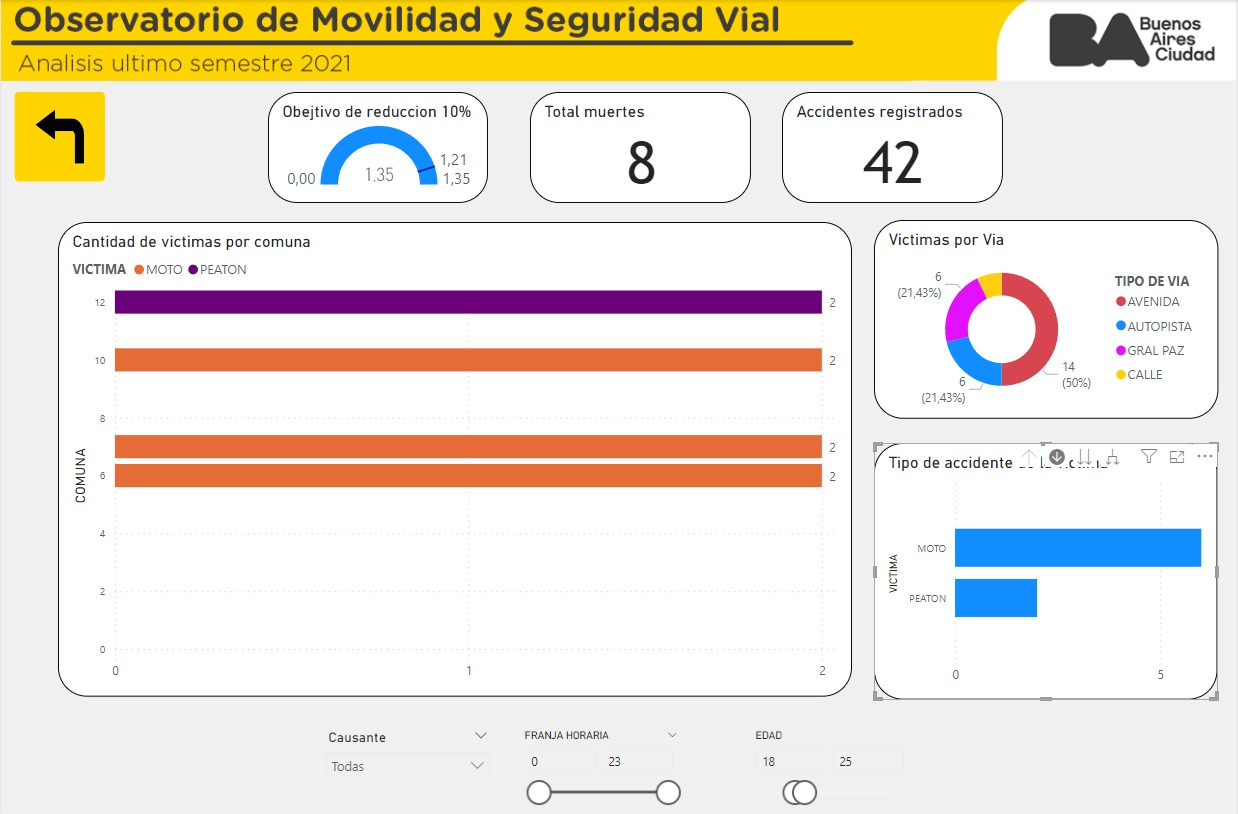

The dashboard page shown, as its layout file describes it:
{"tool":"powerbi","page":{"name":"Informe Homicidios","canvas":[1280,720],"ordinal":1},"visuals":[{"type":"image","box":[0,90,120,104.4],"z":0},{"type":"actionButton","title":"Borrar Segmentaciones","box":[1036.7,123.4,243.3,36.7],"z":1000},{"type":"card","title":"Total muertes","fields":{"Values":["Sum(HECHOS N.CANTIDAD VICTIMAS)"]},"box":[527.8,93.3,228.9,101.1],"z":2000},{"type":"card","title":"Accidentes registrados","fields":{"Values":["CountNonNull(HECHOS N.ID_hecho)"]},"box":[788.9,93.3,228.9,101.1],"z":3000},{"type":"kpi","title":"Reducción del 10% la Tasa de Víctimas del Último Semestre","fields":{"Indicator":["Medidas.TasaVictimasUltimoSemestre"],"Goal":["Medidas.ObjetivoVictimasSemestre"],"TrendLine":["HECHOS N.FECHA.Variación.Jerarquía de fechas.Año"]},"box":[271.1,93.3,228.9,101.1],"z":4000},{"type":"donutChart","title":"Victimas por Via","fields":{"Category":["HECHOS N.TIPO DE VIA"],"Y":["Sum(HECHOS N.CANTIDAD VICTIMAS)"]},"box":[905.4,207.8,356.7,205.6],"z":5000},{"type":"slicer","fields":{"Values":["HECHOS N.FRANJA HORARIA"]},"box":[13.3,581,243.3,118.9],"z":6000},{"type":"columnChart","title":"Tipo de accidente de la victima","fields":{"Y":["CountNonNull(HECHOS N.TIPO DE VIA)"],"Category":["HECHOS N.VICTIMA"],"Series":["HECHOS N.VICTIMA"]},"box":[905.4,433.3,356.7,266.7],"z":7000},{"type":"slicer","fields":{"Values":["HECHOS N.ACUSADO"]},"box":[13.3,338.9,243.3,225.6],"z":8000},{"type":"barChart","fields":{"Category":["HECHOS N.COMUNA","HECHOS N.TIPO DE VIA"],"Y":["Sum(HECHOS N.CANTIDAD VICTIMAS)"],"Series":["HECHOS N.VICTIMA"]},"box":[271.1,207.8,608.9,492.2],"z":9000},{"type":"slicer","fields":{"Values":["VICTIMAS N.EDAD"]},"box":[13.3,205.6,243.3,118.9],"z":10000}]}

Visuals, with their boxes on the page's 1280x720 design canvas (x1, y1, x2, y2). These are canvas units, not pixel positions in the 1238x814 screenshot, which may show the page scaled, cropped or inside an application window:
image: [0,90,120,194]
"Borrar Segmentaciones" actionButton: [1037,123,1280,160]
"Total muertes" card: [528,93,757,194]
"Accidentes registrados" card: [789,93,1018,194]
"Reducción del 10% la Tasa de Víctimas del Último Semestre" kpi: [271,93,500,194]
"Victimas por Via" donutChart: [905,208,1262,413]
slicer - HECHOS N.FRANJA HORARIA: [13,581,257,700]
"Tipo de accidente de la victima" columnChart: [905,433,1262,700]
slicer - HECHOS N.ACUSADO: [13,339,257,564]
barChart - HECHOS N.COMUNA x HECHOS N.TIPO DE VIA: [271,208,880,700]
slicer - VICTIMAS N.EDAD: [13,206,257,324]
